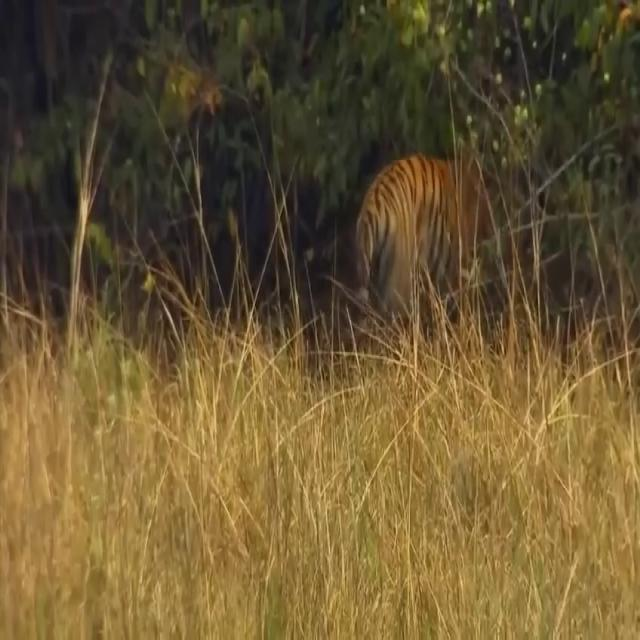tiger: (353, 152, 462, 330)
